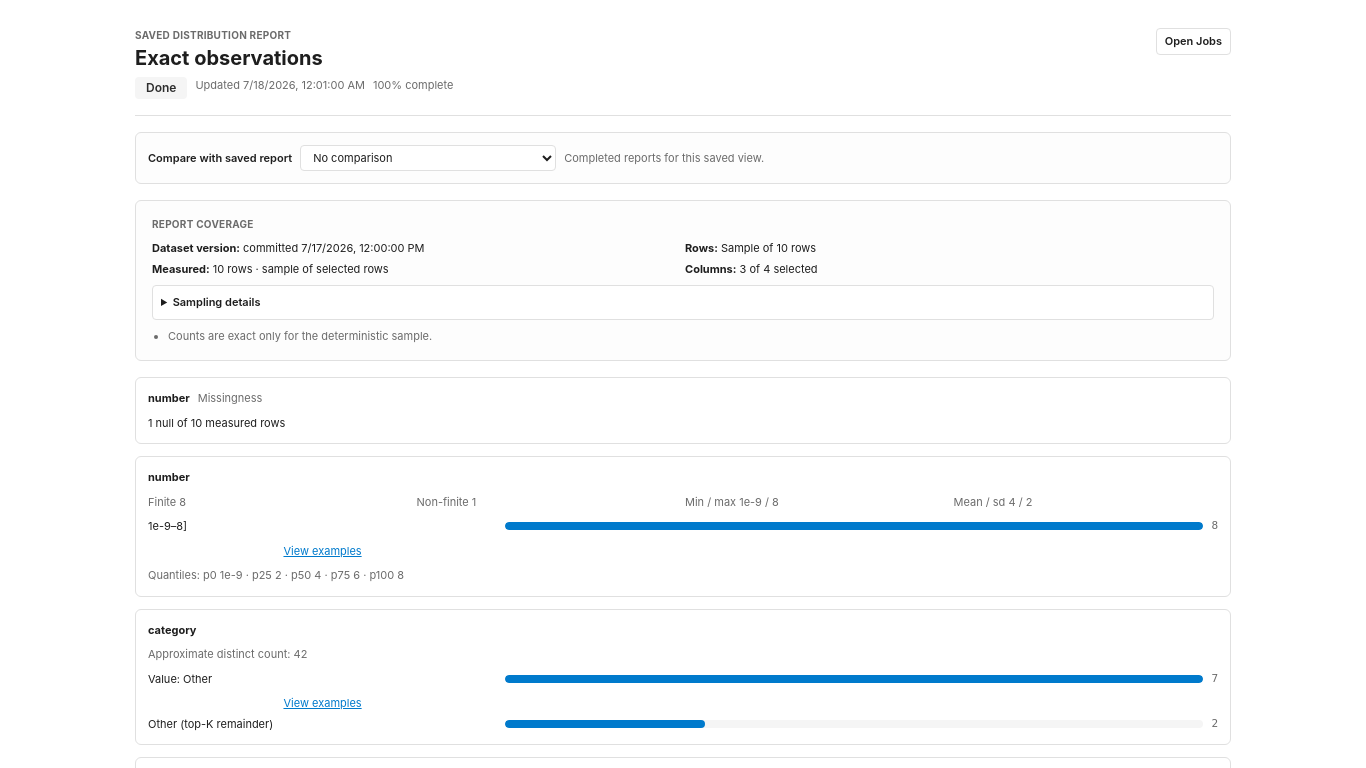
Test: DistributionReportPage › does not expose retained example metadata for a 403 response
Step 1. Click the button "View examples" below "1e-9–8]" → (323, 551), box top-left (148, 542), bottom-right (497, 559)
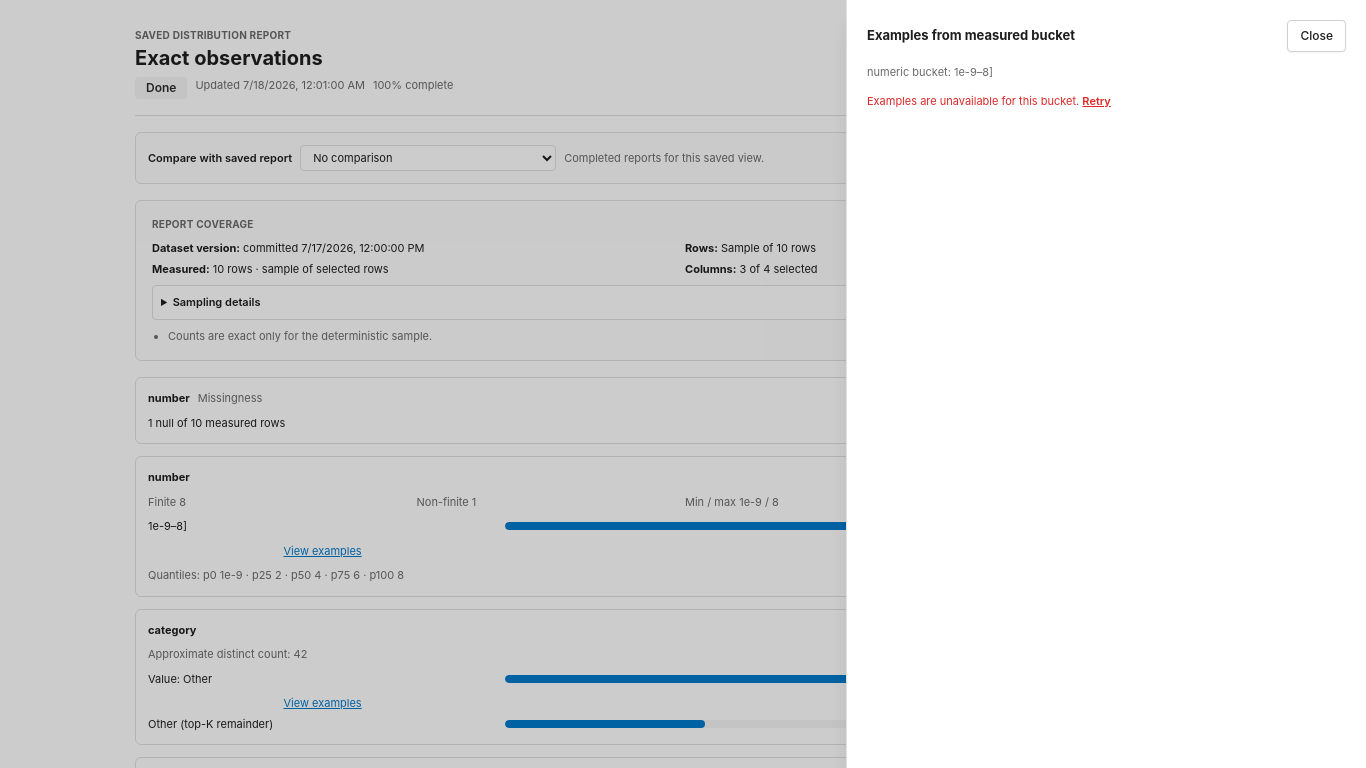
Expected: the text "Report coverage" is shown, top-left (152, 218), bottom-right (254, 230)
Expected: the message shows "Examples are unavailable for this bucket.", top-left (867, 94), bottom-right (1079, 108)
